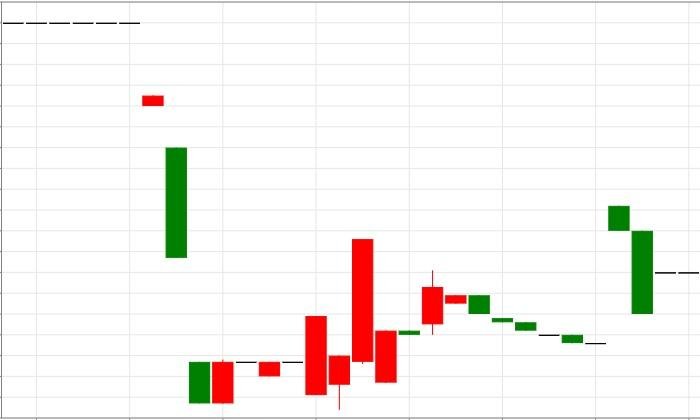bearish_engulfing_fall: (374, 270, 490, 384)
bullish_engulfing_rise: (119, 22, 234, 404)
